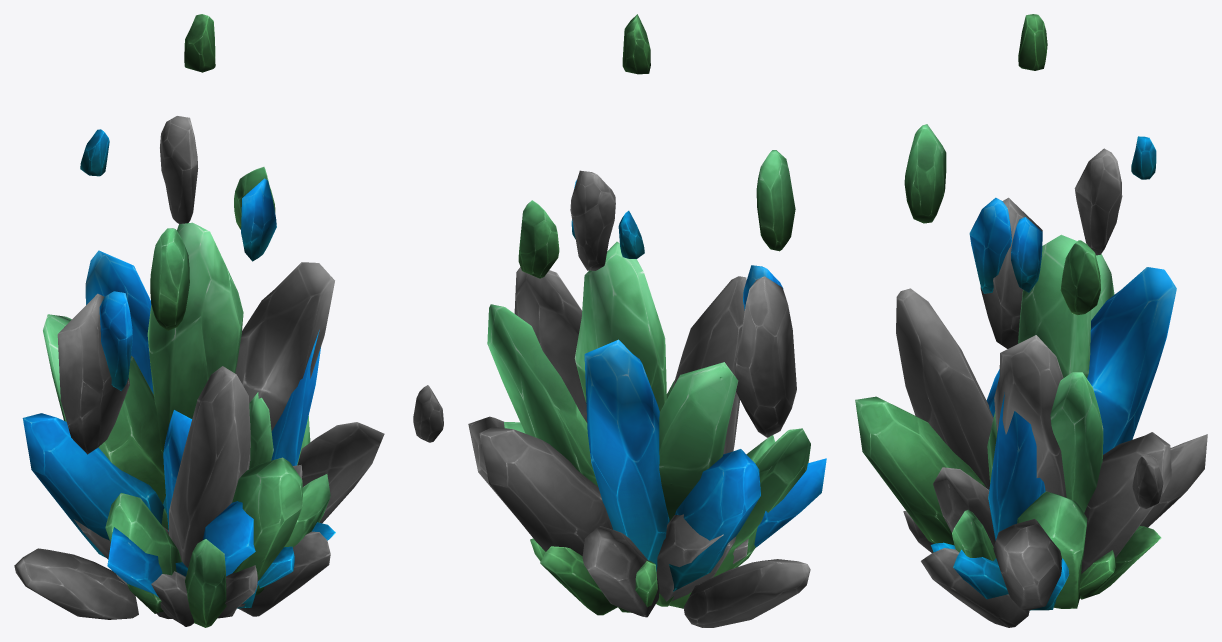
The model's file is Gems.fbx.
3 views of the same model, side by side, from view 1: azimuth 30°, elevation 25°; view 2: azimuth 150°, elevation 25°; view 3: azimuth 270°, elevation 25° (orthographic).
Visible parts, largest first — view 1: gem_03, gem_02, gem_01; view 2: gem_03, gem_02, gem_01; view 3: gem_03, gem_02, gem_01.
Boxes of the visible parts, x1,y1,x2,y2 form: gem_03: (14, 116, 384, 626); gem_02: (43, 14, 330, 627); gem_01: (22, 129, 335, 608); gem_03: (413, 170, 810, 627); gem_02: (487, 14, 810, 615); gem_01: (571, 180, 826, 591); gem_03: (896, 148, 1207, 627); gem_02: (855, 14, 1161, 608); gem_01: (931, 136, 1176, 610).
Bounding box in the file's own units: 1.44 × 2.31 × 1.25.
